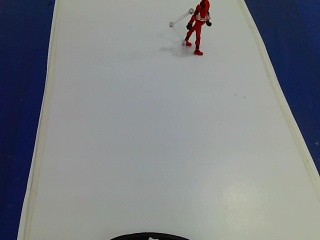pedestrian: (160, 0, 222, 62)
